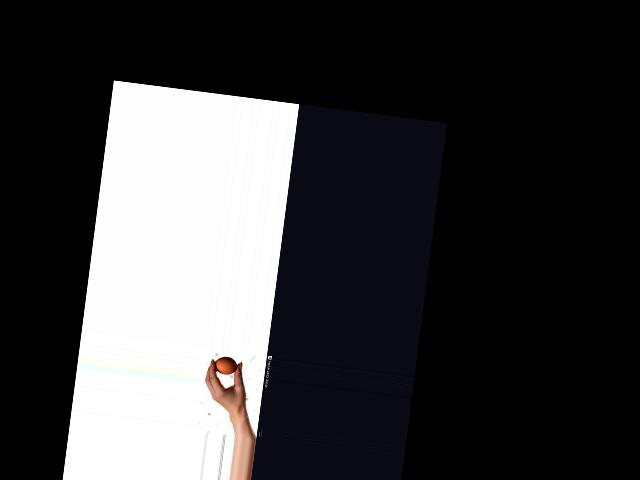egg: (214, 355, 238, 377)
